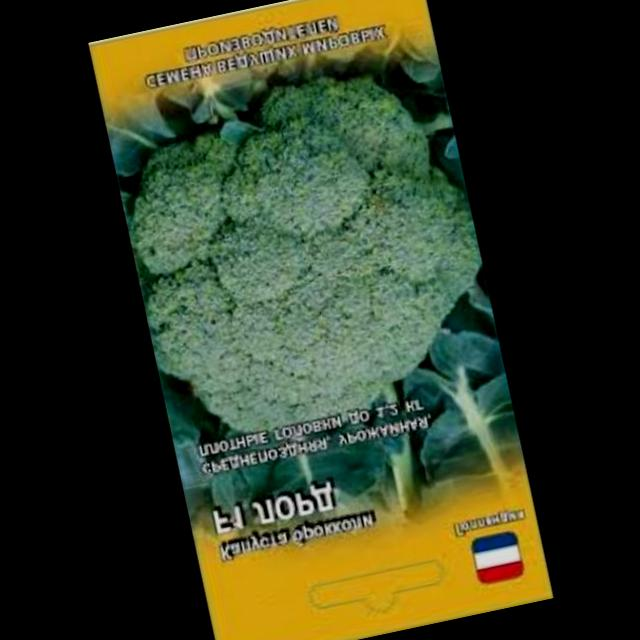Broccoli: (101, 44, 506, 457)
